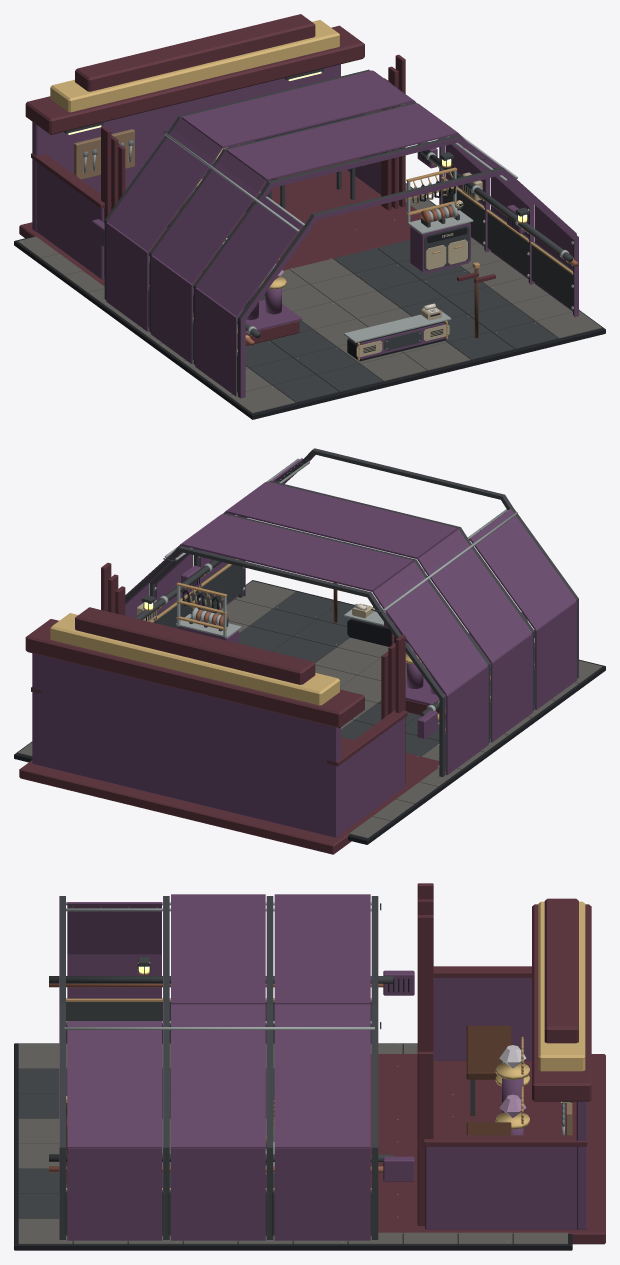
Rendered from amethyne-outfit.glb.
3 views of the same model, one above another, from view 1: azimuth 30°, elevation 25°; view 2: azimuth 150°, elevation 25°; view 3: azimuth 270°, elevation 25° (orthographic). The views are drawn at different scales.
Parts seen in each view (by area): view 1: amethyne-outfit; view 2: amethyne-outfit; view 3: amethyne-outfit.
Boxes of the visible parts, x1,y1,x2,y2 form: amethyne-outfit: (14, 14, 605, 419); amethyne-outfit: (14, 448, 605, 854); amethyne-outfit: (14, 883, 605, 1250).
Size of the model in its own units: 17.08 by 8.13 by 21.15.
23 materials, 20 textured.
